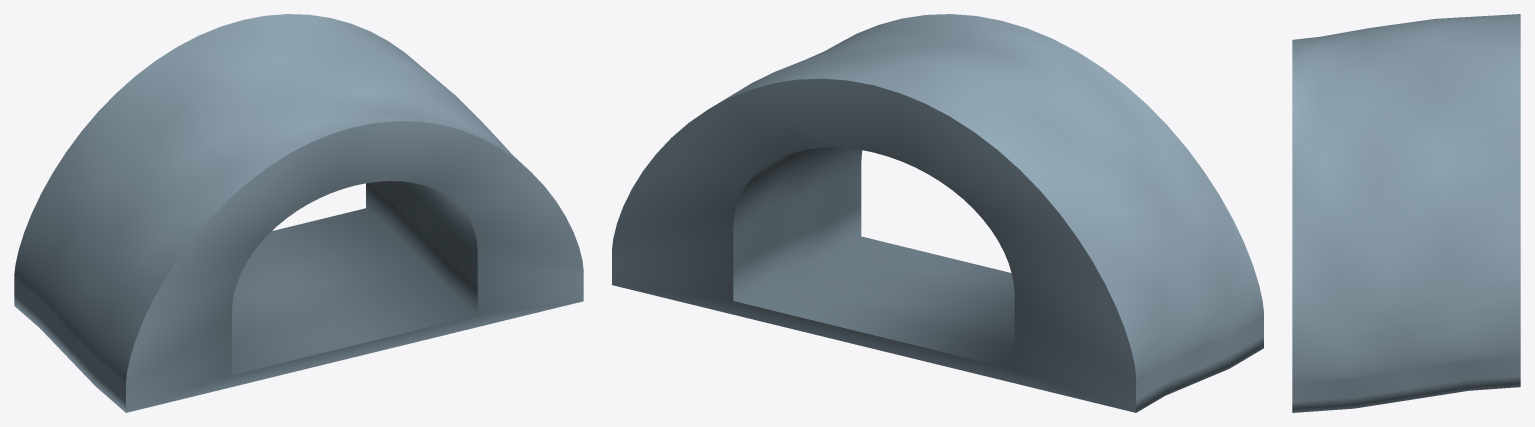
File: grade_up_terrain_lod1.glb
3 views of the same model, side by side, from view 1: azimuth 30°, elevation 25°; view 2: azimuth 150°, elevation 25°; view 3: azimuth 270°, elevation 25° (orthographic). The views are drawn at different scales.
Parts seen in each view (by area): view 1: TerrainRoof.013; view 2: TerrainRoof.013; view 3: TerrainRoof.013.
Part boxes in pixels (left/top/right/bottom): TerrainRoof.013: left=14, top=14, right=583, bottom=412; TerrainRoof.013: left=612, top=14, right=1263, bottom=412; TerrainRoof.013: left=1292, top=14, right=1520, bottom=412.
Size of the model in its own units: 28.4 by 15.15 by 12.
